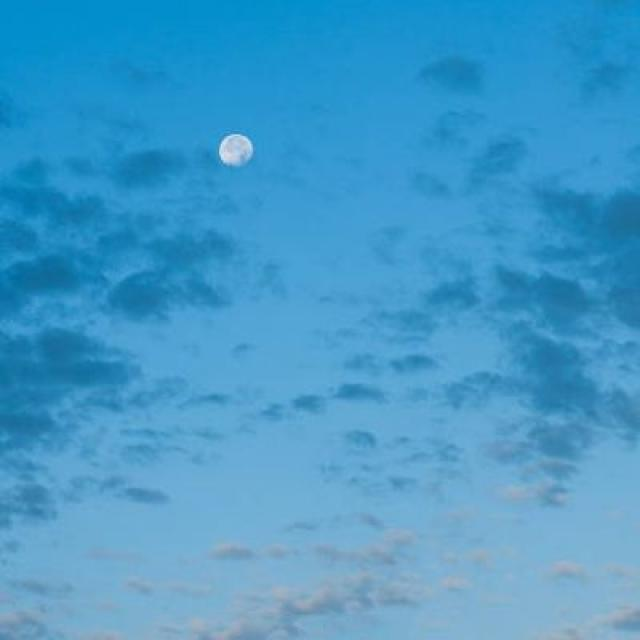Cc: (3, 187, 640, 586)
